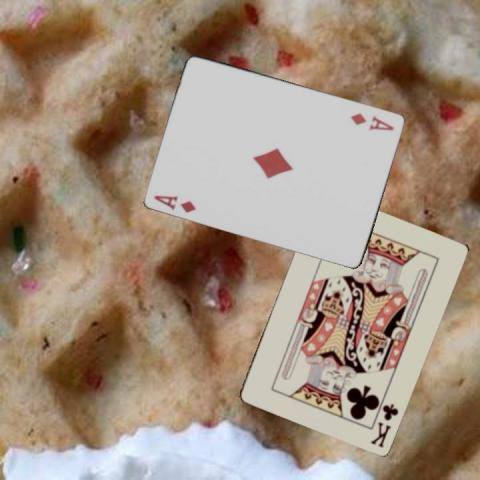Ad: (347, 110, 396, 132), (151, 192, 198, 214)
Kc: (367, 400, 400, 449)
